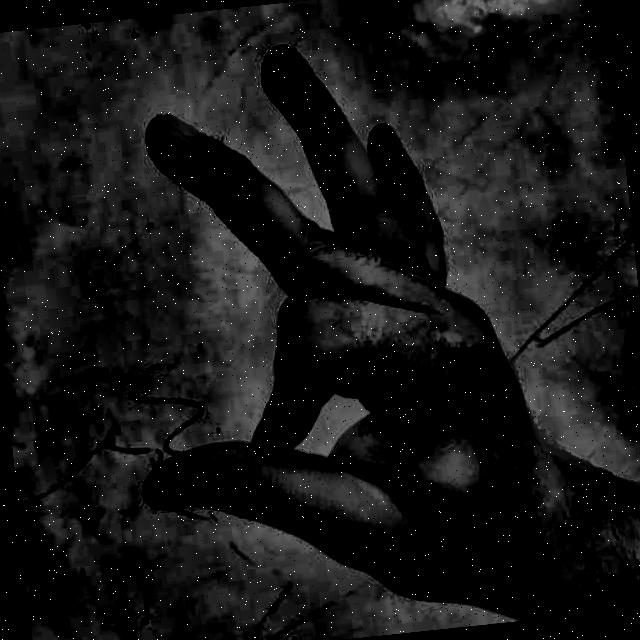Uo: (44, 0, 617, 640)
